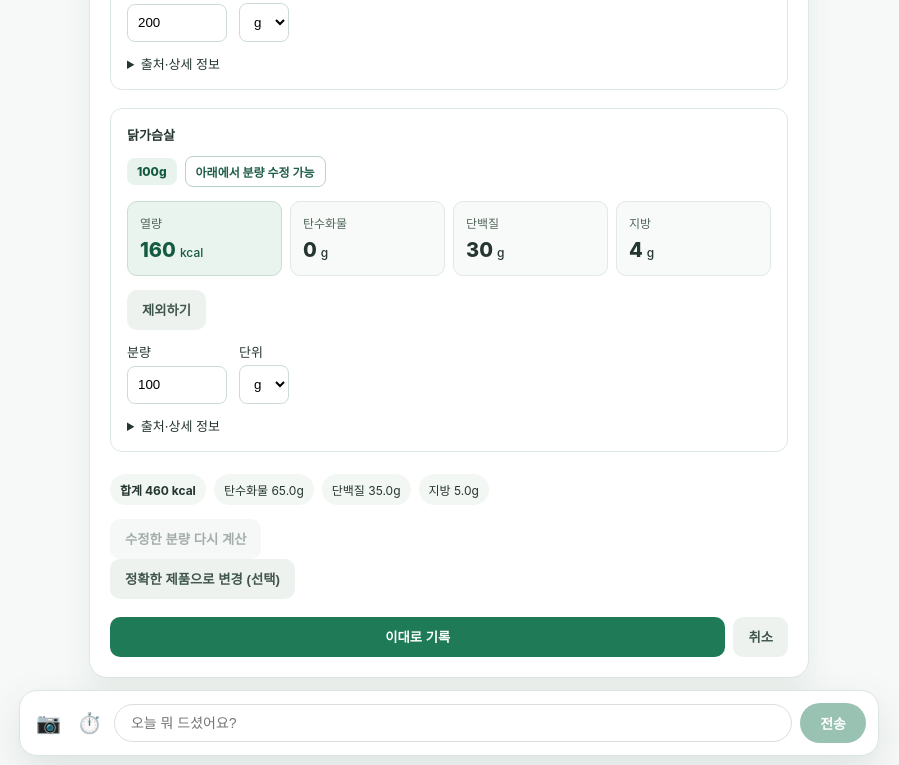
Test: exact product replacement keeps the other meal and does not confirm or rerun Agent
(page scrolled)
Click the button "정확한 제품으로 변경 (선택)". click: (202, 578)
box: top-left (110, 558), bottom-right (295, 598)
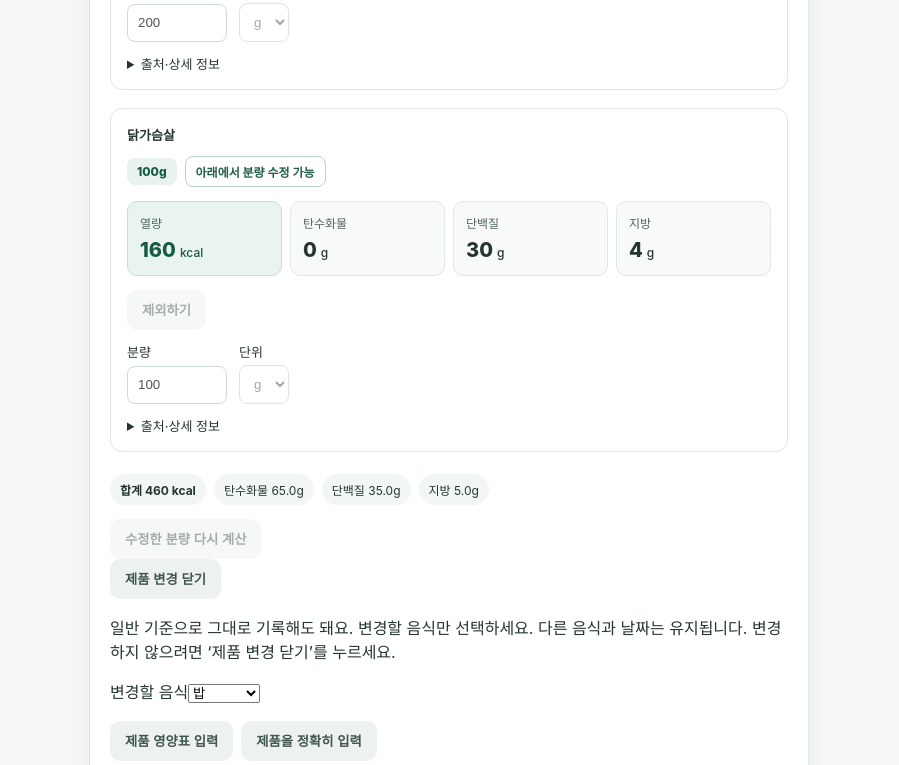
Expected: the number field named "1번 음식 분량" is disabled, top-left (127, 4), bottom-right (227, 42)
Select "닭가슴살" in the dropdown labelled "변경할 음식". click: (224, 693)
box: top-left (188, 684), bottom-right (260, 702)
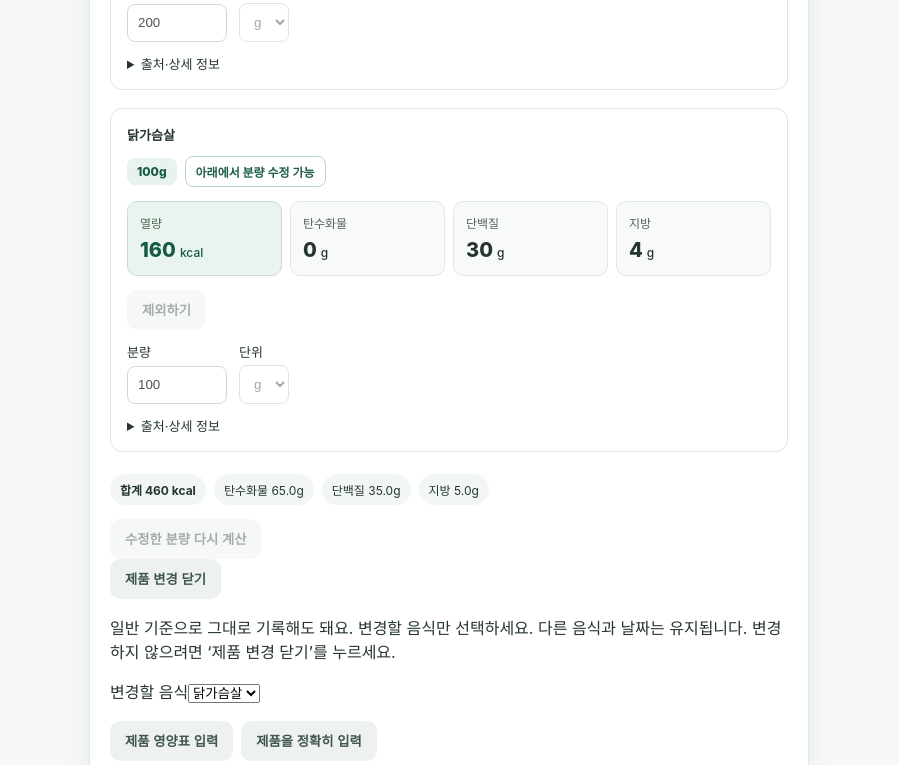
Click the button "제품을 정확히 입력". click: (309, 740)
box: top-left (241, 720), bottom-right (377, 760)
(page scrolled)
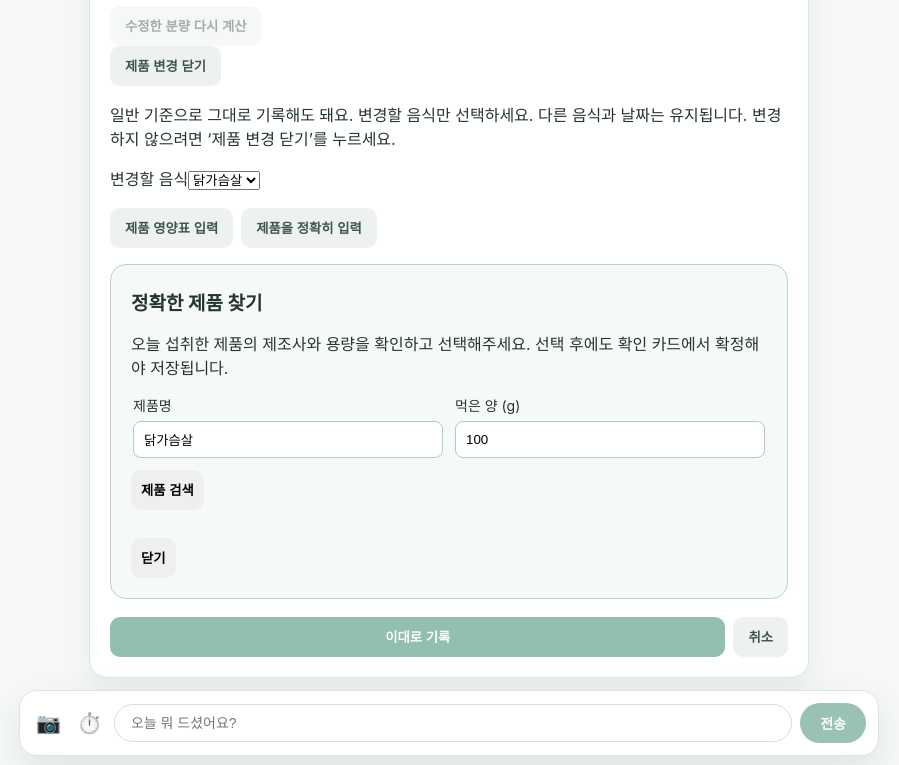
Expected: the number field labelled "먹은 양 (g)" holds "100", top-left (455, 420), bottom-right (765, 458)
Click the button "제품 검색". click: (167, 490)
box: top-left (131, 470), bottom-right (204, 510)
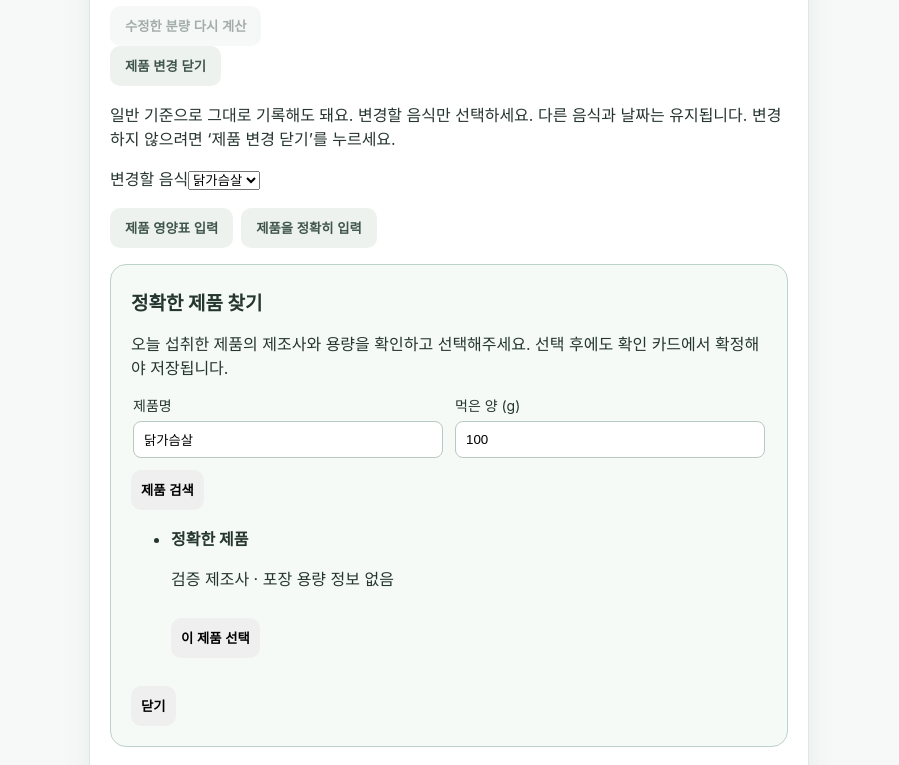
Click the button "이 제품 선택". click: (215, 638)
box: top-left (171, 618), bottom-right (260, 658)
(page scrolled)
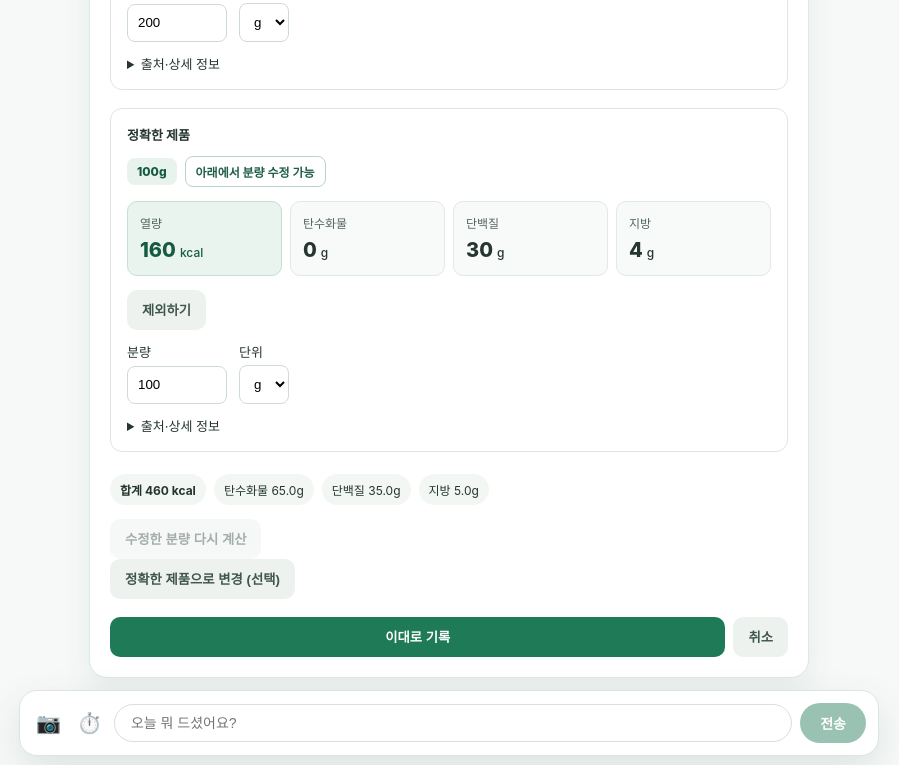
Expected: the text "정확한 제품" is shown, top-left (127, 126), bottom-right (190, 142)
